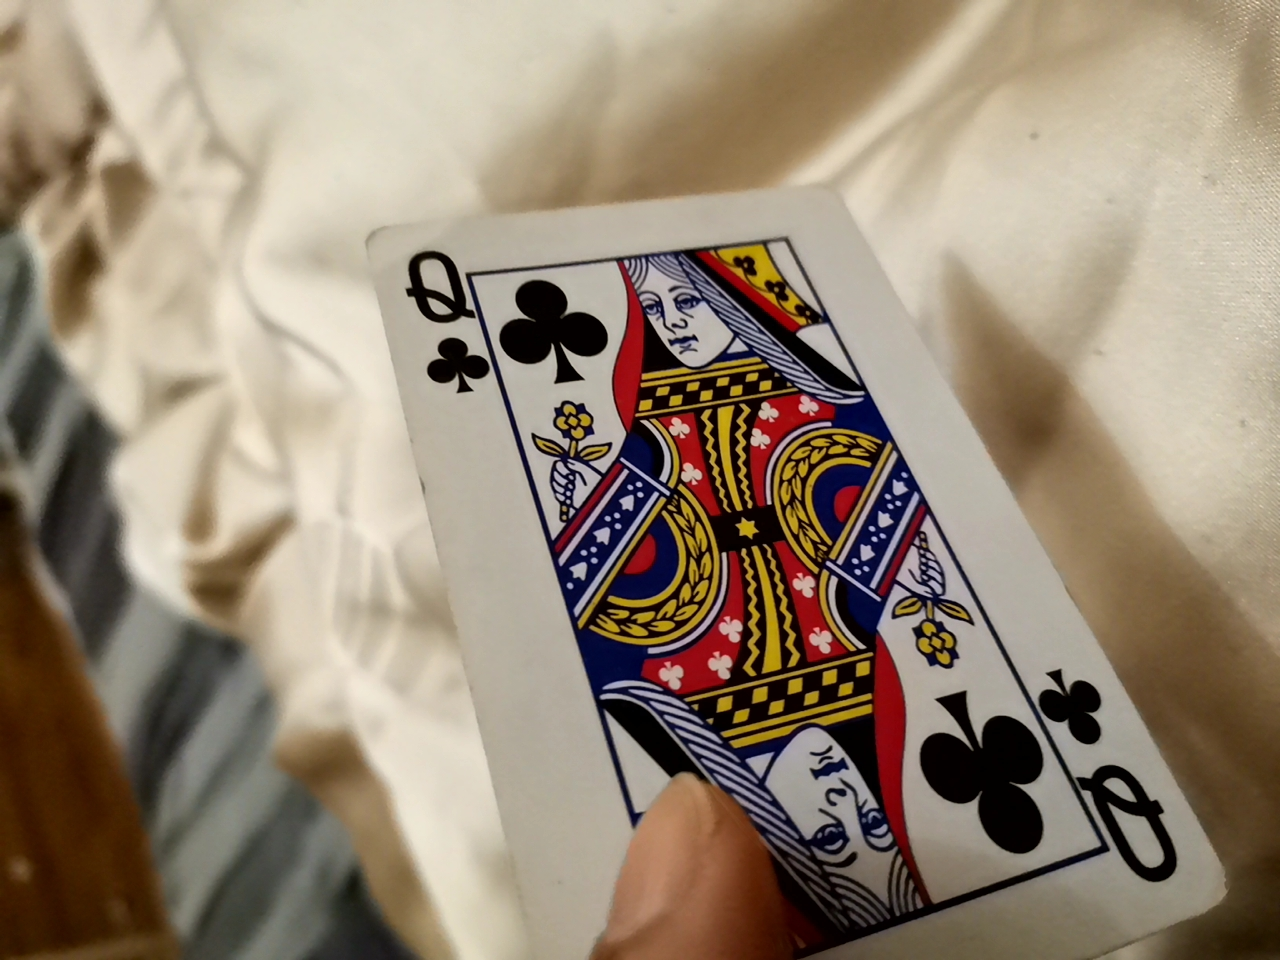mh q: (361, 159, 1182, 950)
